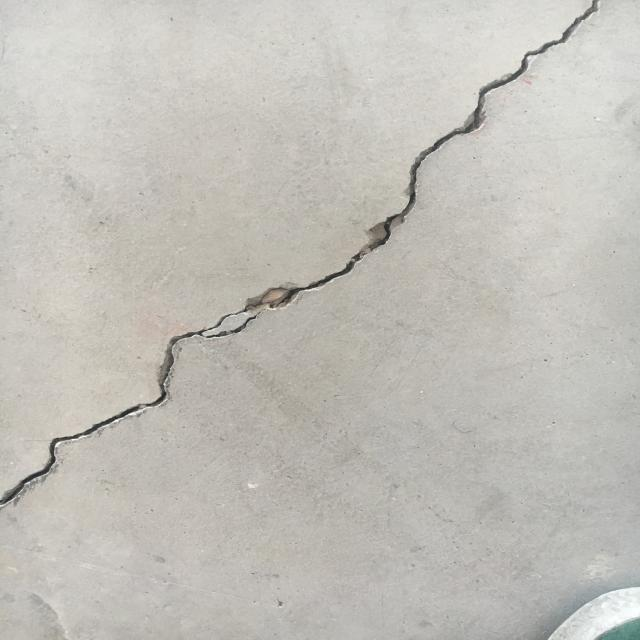Rachadura: (0, 0, 599, 505)
